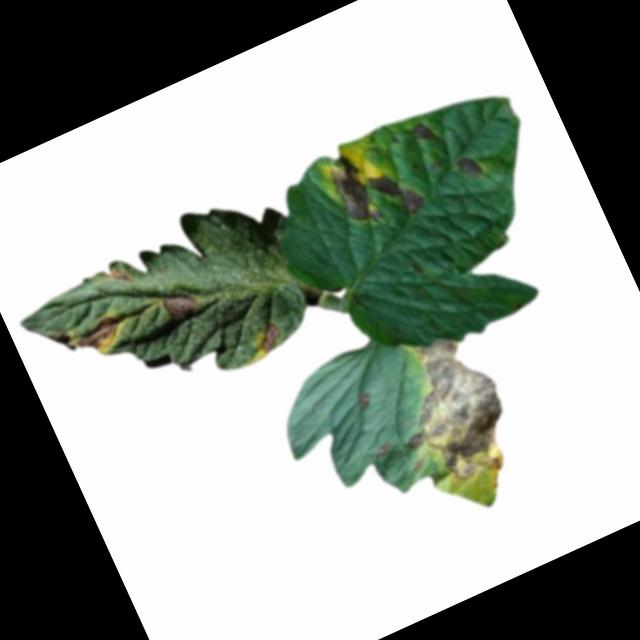Early_blight: (369, 320, 529, 500), (322, 133, 429, 240), (70, 307, 133, 361), (157, 280, 206, 326), (251, 318, 287, 354), (410, 115, 442, 146), (454, 151, 484, 179), (105, 262, 132, 289), (372, 435, 397, 458), (351, 386, 374, 411)
